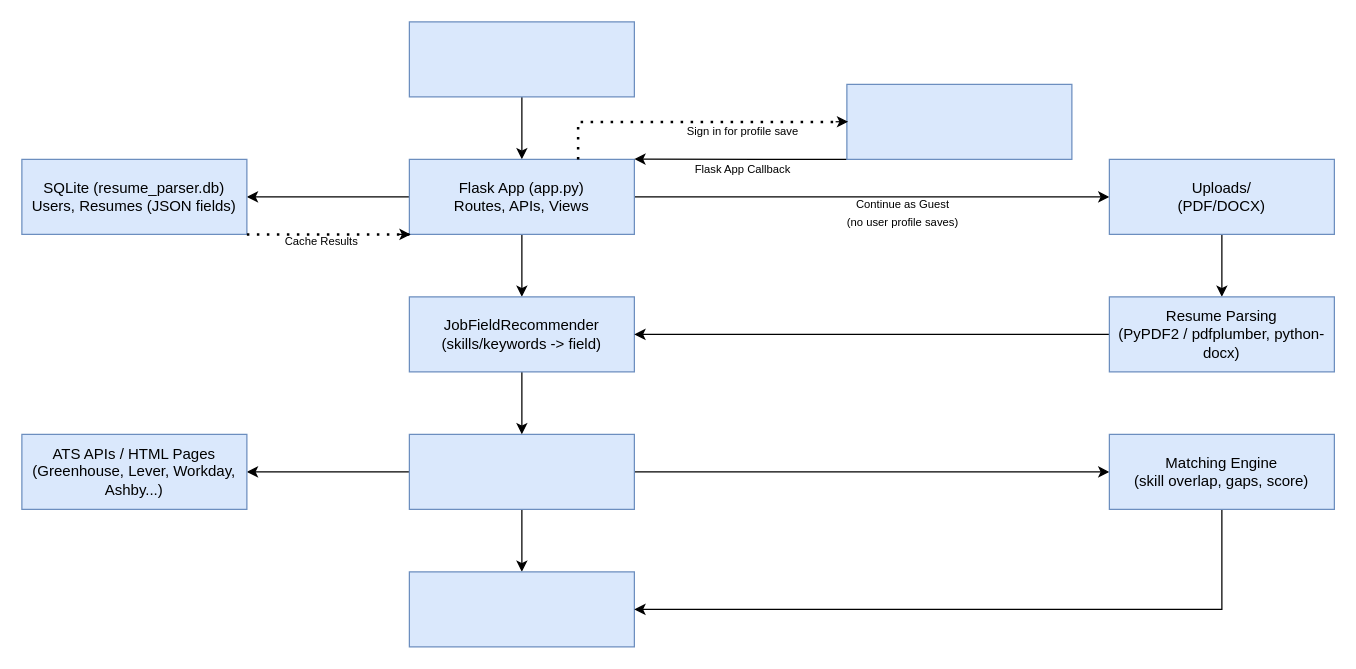
The diagram is 1356 pixels wide and 669 high, and some of its shapes have lost their labels. Each missing label, with the centre of its shape:
ATS Scraper (Requests + BS4 + Ollama Mistral): the point at 521,471
Dashboard UI (match bars, filters, links): the point at 521,609
Google OAuth (Authlib): the point at 959,121
User Browser (HTML/CSS UI): the point at 521,59
